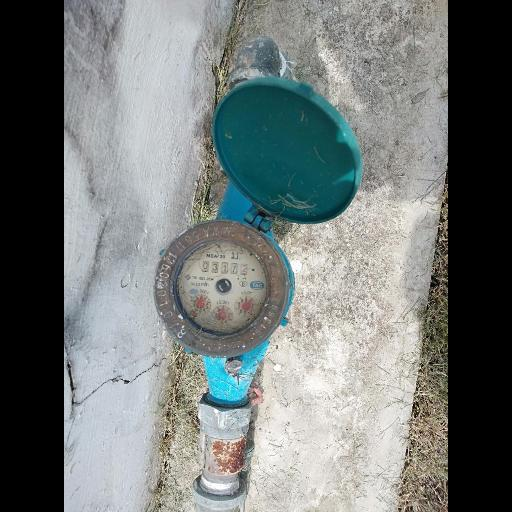0: (202, 260, 209, 272)
1: (222, 262, 229, 274)
2: (241, 263, 248, 275)
3: (212, 261, 219, 273)
7: (231, 262, 238, 274)
border_water_meter_number: (202, 260, 249, 276)
